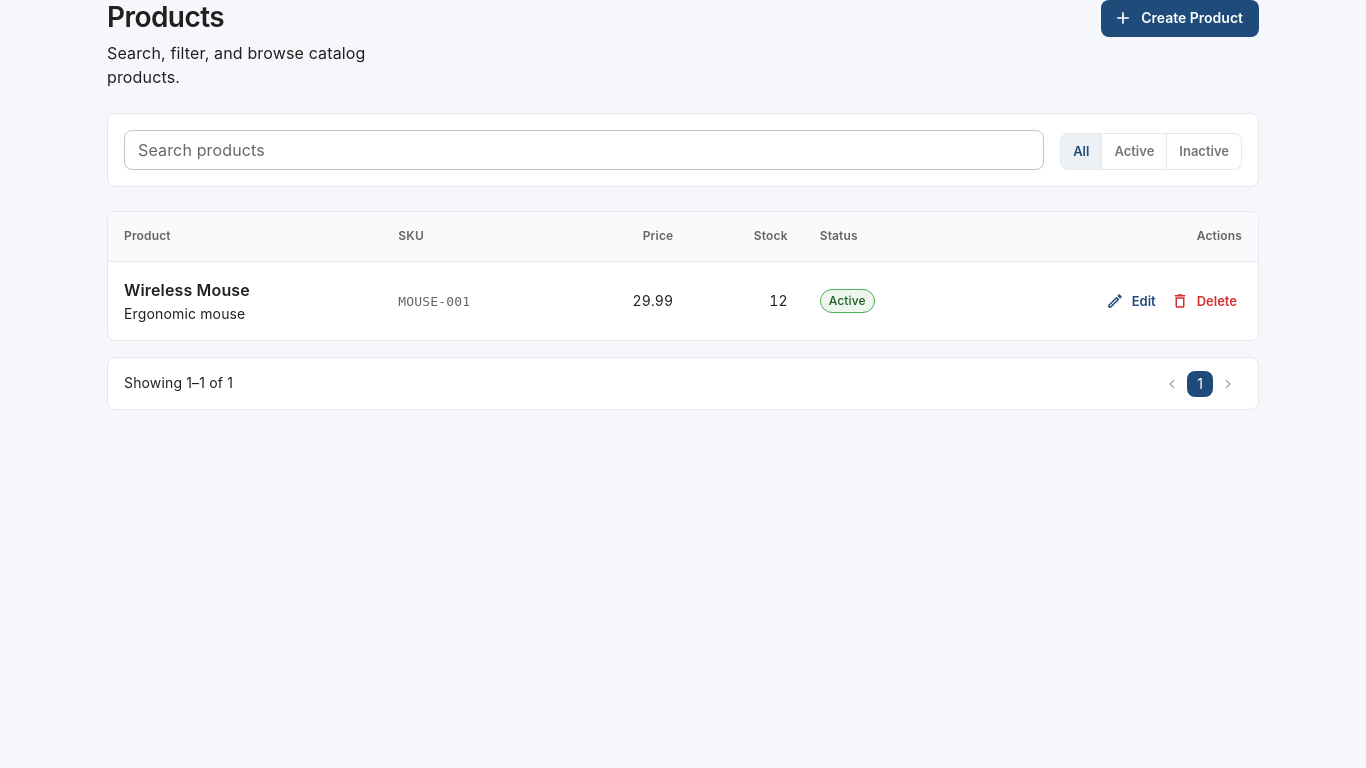
ProductsPage › opens Delete confirmation for the selected Product and cancels without DELETE
The width and height of the screenshot is (1366, 768).
Expected: the text "Wireless Mouse" is shown, [124, 280, 250, 300]
What coordinates should you click on to do the following:
click the button with aria-label "Delete Wireless Mouse"
I would click on:
 (1205, 301)
Its box is [1168, 286, 1242, 316].
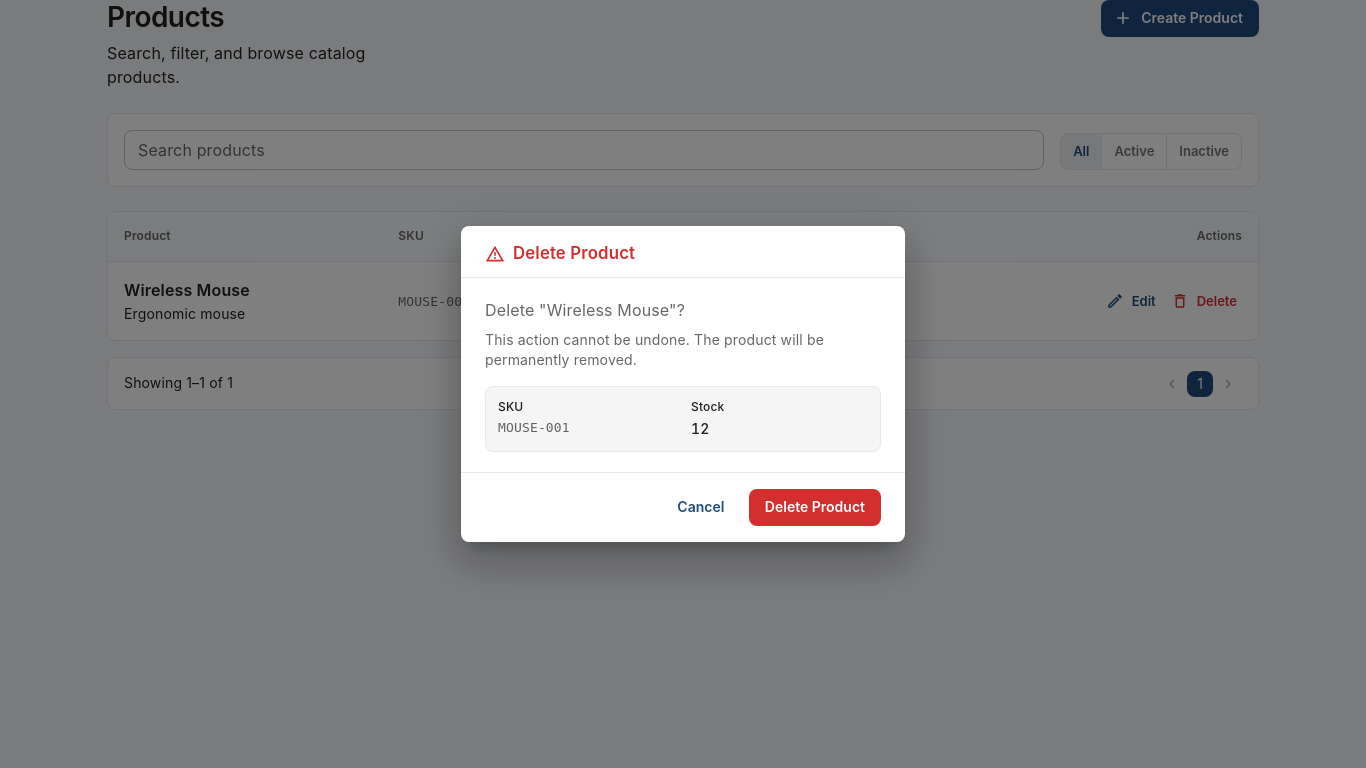
Expected: the dialog "Delete Product" is shown, [461, 226, 905, 542]
Expected: the text "Delete \"Wireless Mouse\"?" is shown, [485, 300, 685, 320]
What coordinates should you click on to do the following:
click the button "Cancel"
I would click on:
 (701, 508)
Its box is [669, 489, 733, 526].
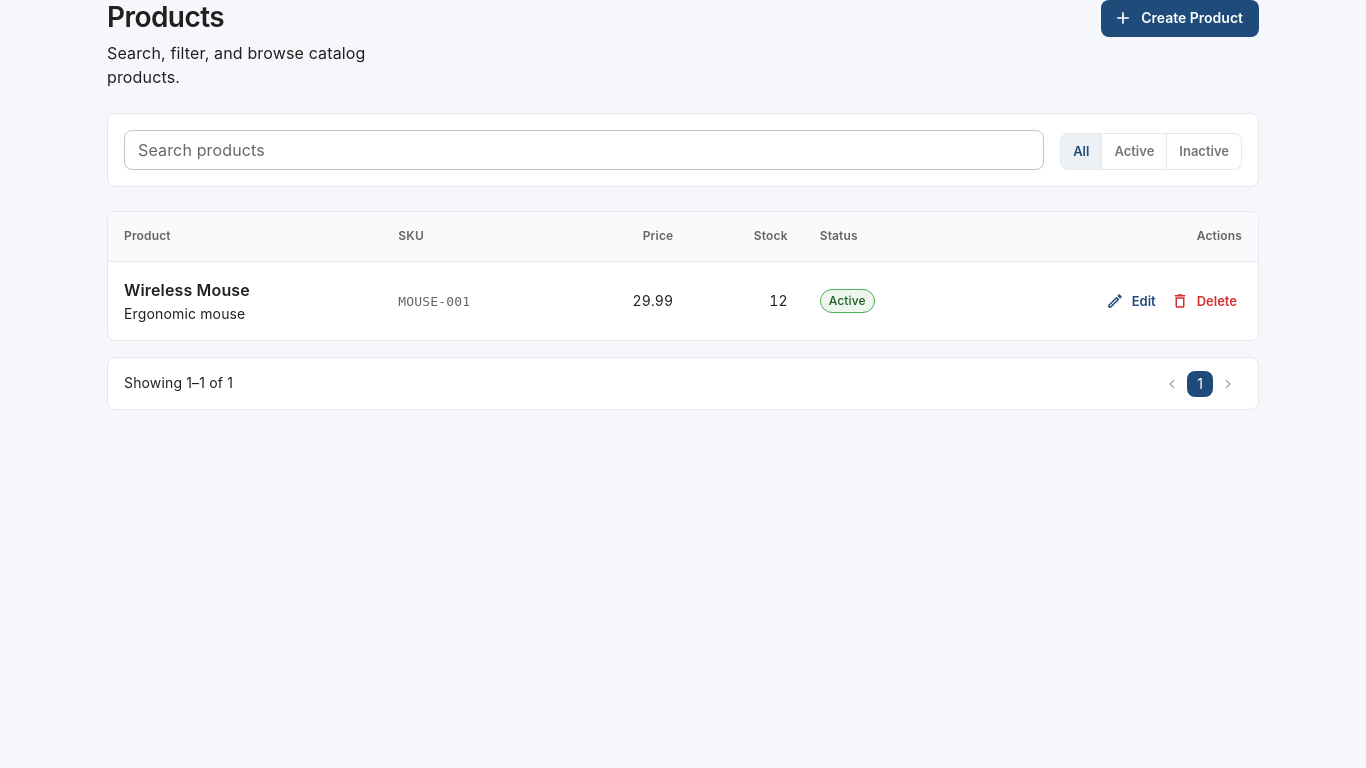
Expected: the heading "Delete Product" is gone
